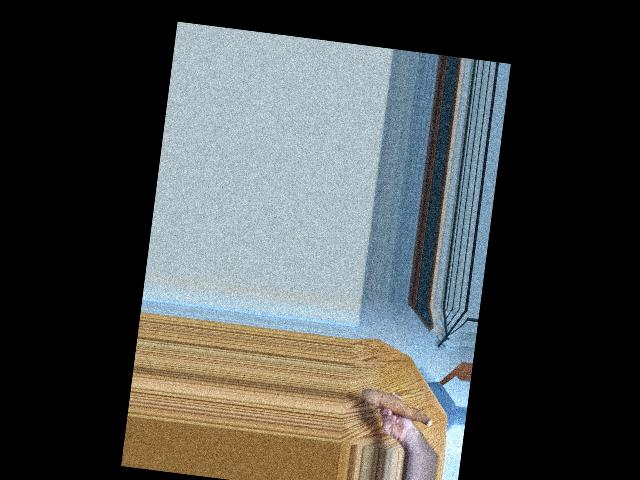sweet_potato: (361, 384, 435, 433)
